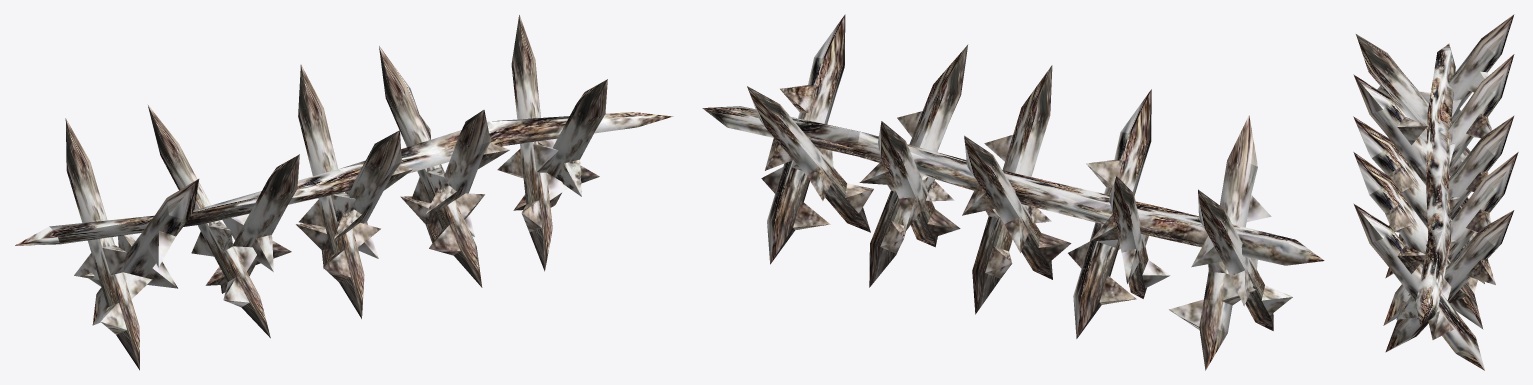
The model's file is Pdoor02.FBX.
3 renders of one model, left to right at view 1: azimuth 30°, elevation 25°; view 2: azimuth 150°, elevation 25°; view 3: azimuth 270°, elevation 25°, orthographic. The views are drawn at different scales.
Visible parts, largest first — view 1: Object09, Object01, Object03, Object02, Object07, Object10, Object08, Object06, Object05, Object04, Object11, ju01 (+2 smaller); view 2: Object04, Object08, Object10, Object06, Object05, Object03, Object01, Object09, Object02, ju01, Object07, Object13 (+2 smaller); view 3: Object04, Object05, Object03, Object02, Object08, Object10, Object07, Object06, Object01, Object09, Object11, ju01 (+2 smaller).
Boxes of the visible parts, x1,y1,x2,y2 form: Object09: (65,118,152,370); Object01: (298,64,380,318); Object03: (497,15,568,271); Object02: (379,46,484,287); Object07: (148,105,270,338); Object10: (84,179,199,325); Object08: (205,154,299,293); Object06: (296,130,413,268); Object05: (400,110,509,242); Object04: (513,79,607,210); Object11: (489,112,673,145); ju01: (193,169,353,224); Object04: (761,14,845,264); Object08: (1068,89,1151,338); Object10: (1169,115,1271,370); Object06: (972,65,1052,314); Object05: (869,44,968,287); Object03: (747,86,873,232); Object01: (962,135,1071,279); Object09: (1191,189,1292,330); Object02: (859,121,960,247); ju01: (1010,173,1165,237); Object07: (1090,176,1170,298); Object13: (1157,208,1324,265); Object04: (1353,203,1484,370); Object05: (1353,152,1483,329); Object03: (1385,210,1514,352); Object02: (1383,152,1518,325); Object08: (1353,74,1477,233); Object10: (1356,34,1470,161); Object07: (1389,54,1514,226); Object06: (1353,116,1484,283); Object01: (1385,115,1514,278); Object09: (1419,14,1514,123); Object11: (1415,230,1450,325); ju01: (1426,114,1451,182).
Size of the model in its own units: 216 by 64.26 by 56.07.
1 material, 1 textured.
